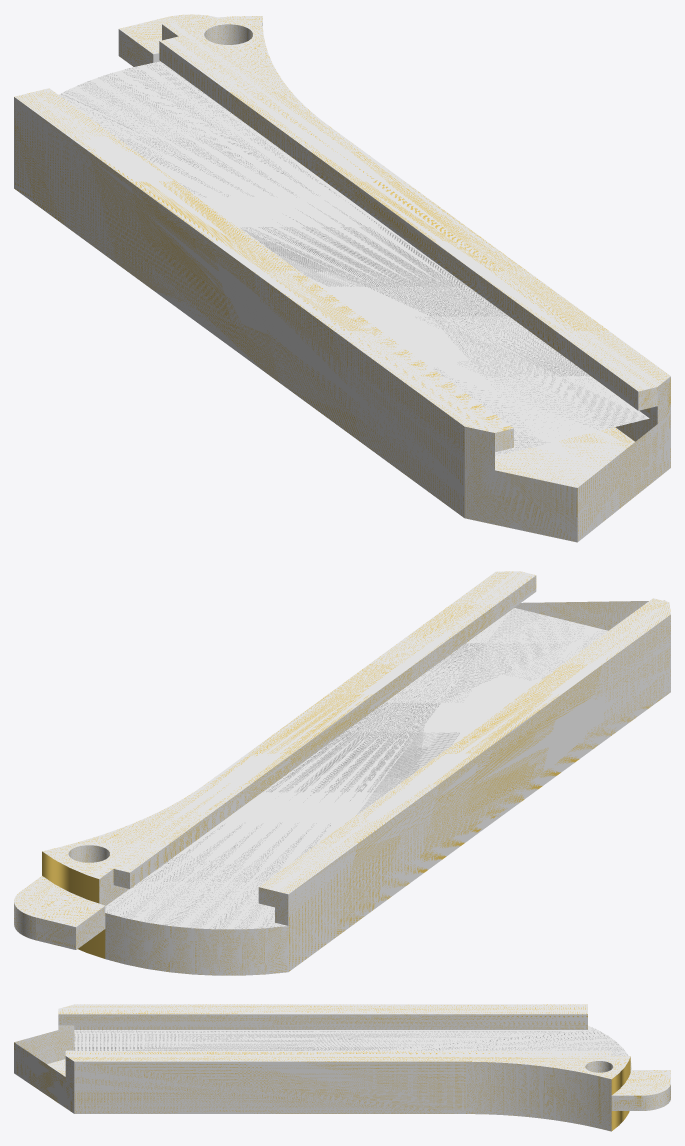
File: original-5.obj
The picture shows the model from 3 angles, top to bottom: view 1: azimuth 30°, elevation 25°; view 2: azimuth 150°, elevation 25°; view 3: azimuth 270°, elevation 25°; orthographic projection. The views are drawn at different scales.
Parts seen in each view (by area): view 1: mesh20/mesh20-geometry#mesh20-geometry; view 2: mesh20/mesh20-geometry#mesh20-geometry; view 3: mesh20/mesh20-geometry#mesh20-geometry.
Part boxes in pixels (x1,y1,x2,y2): mesh20/mesh20-geometry#mesh20-geometry: (14,14,670,542); mesh20/mesh20-geometry#mesh20-geometry: (14,571,670,975); mesh20/mesh20-geometry#mesh20-geometry: (14,1004,670,1131).
Size of the model in its own units: 0.4208 by 0.1368 by 1.56.
